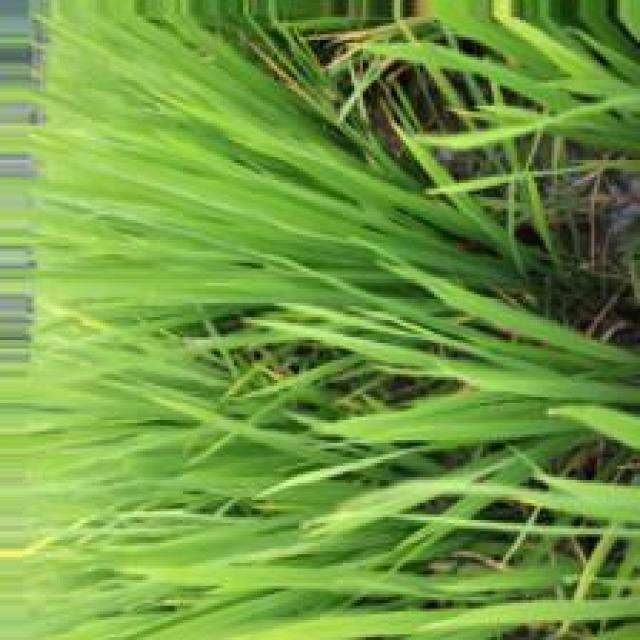HealthyLeaf: (206, 182, 324, 238), (144, 538, 234, 568), (128, 282, 239, 301), (436, 418, 525, 437)
